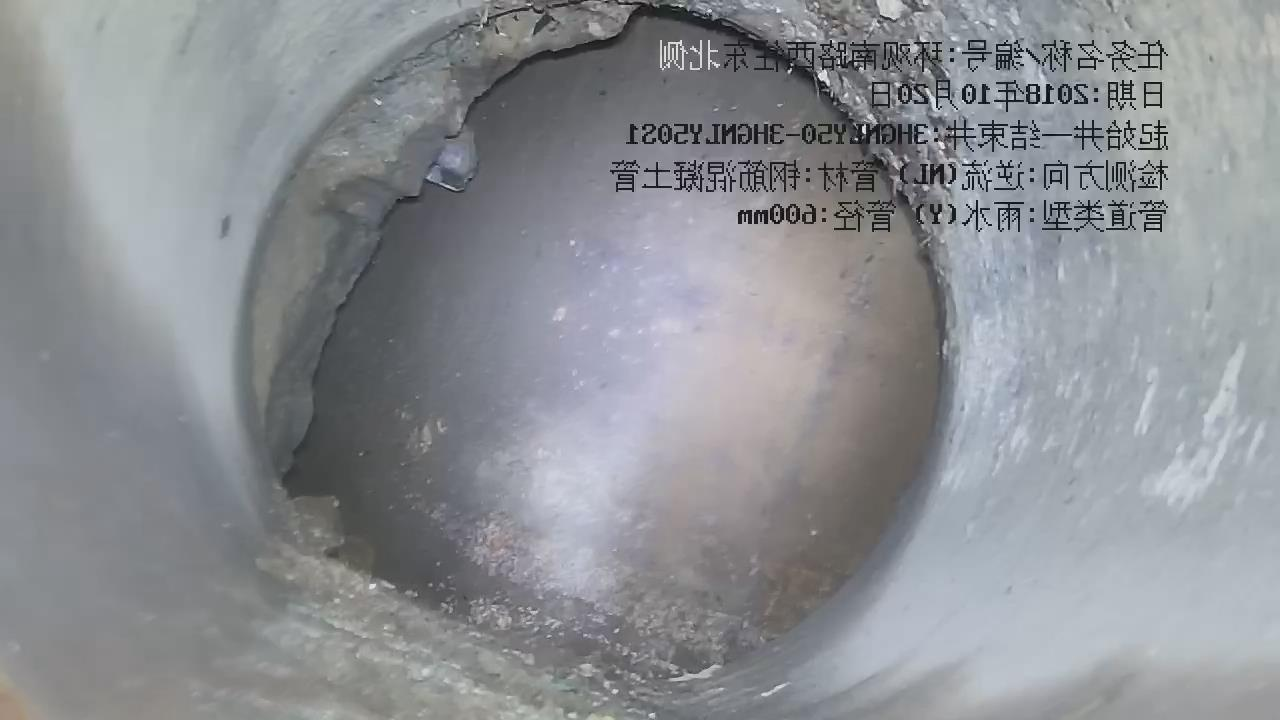CQBG: (247, 0, 639, 560)
